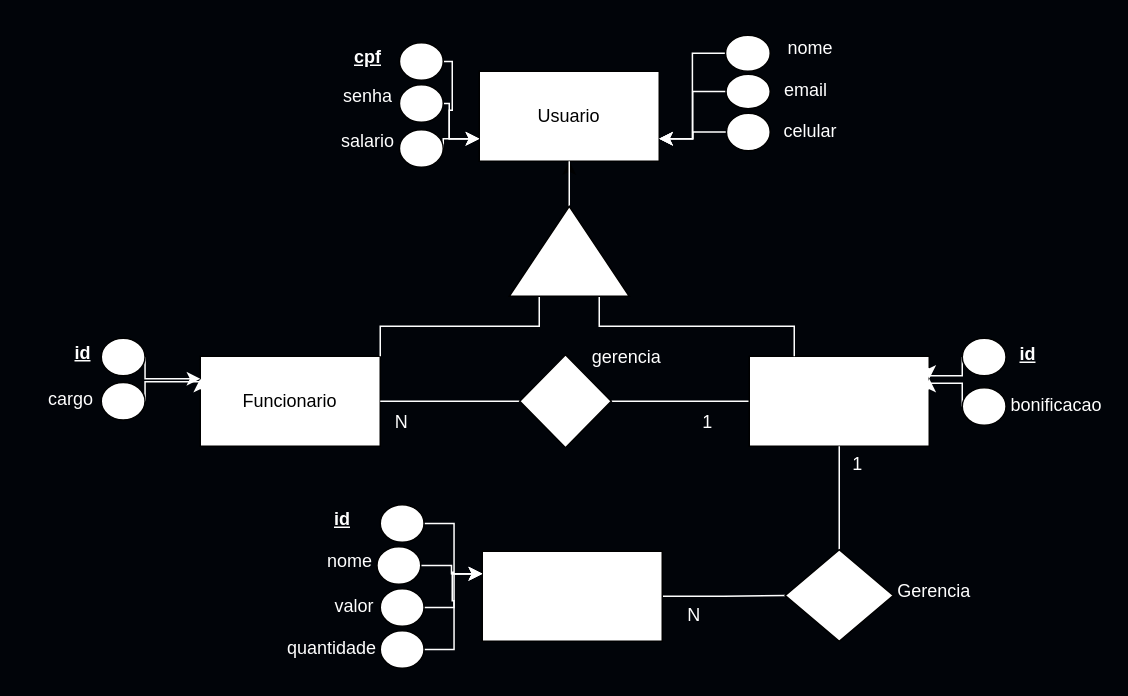
Some shapes in this 1128 by 696 pixel diagram are drawn without their labels. The centre of each missing label's shape, as x and y in pixels:
"Gerente" goes at [838,400].
"Produto" goes at [571,595].
